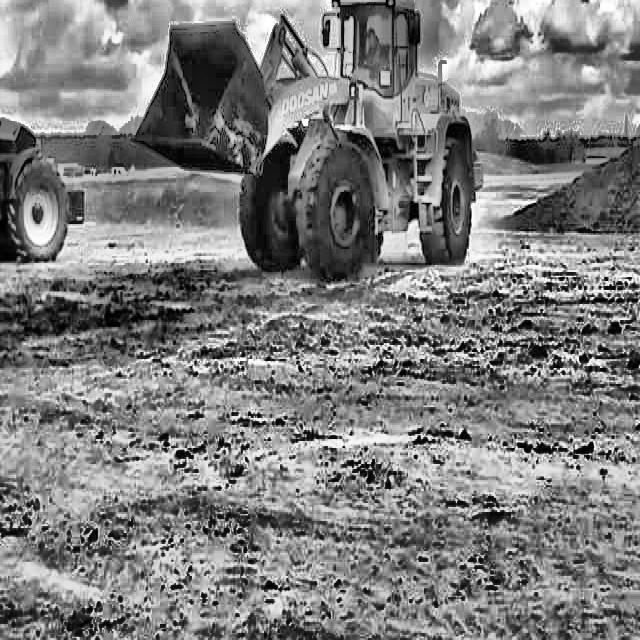buldozerpayloadergrader: (125, 0, 485, 279)
dump_truck: (0, 48, 85, 284)
